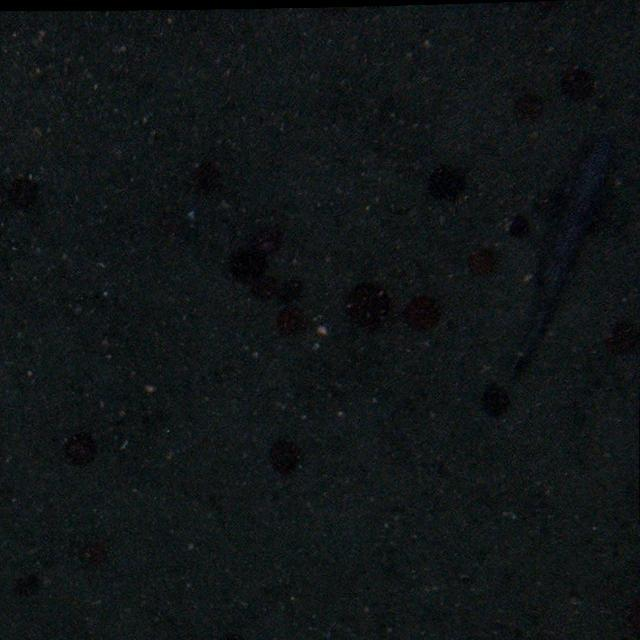roundfish: (505, 134, 621, 388)
